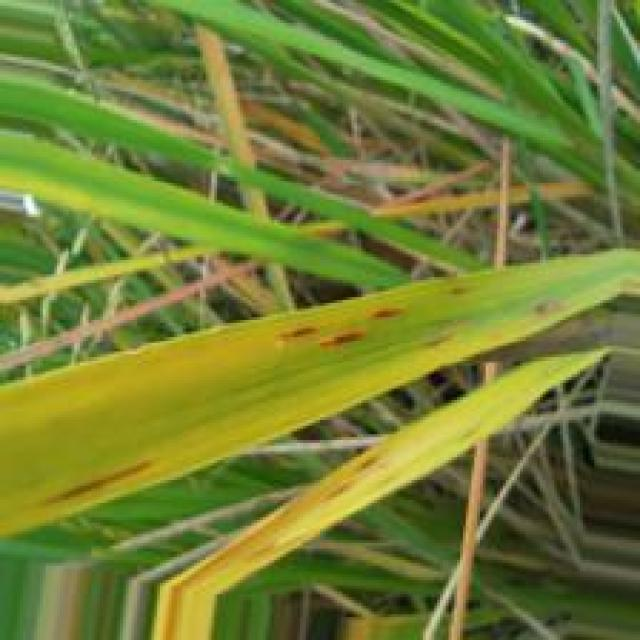Narrow_Brown_Leaf_Spot: (0, 267, 587, 540)
